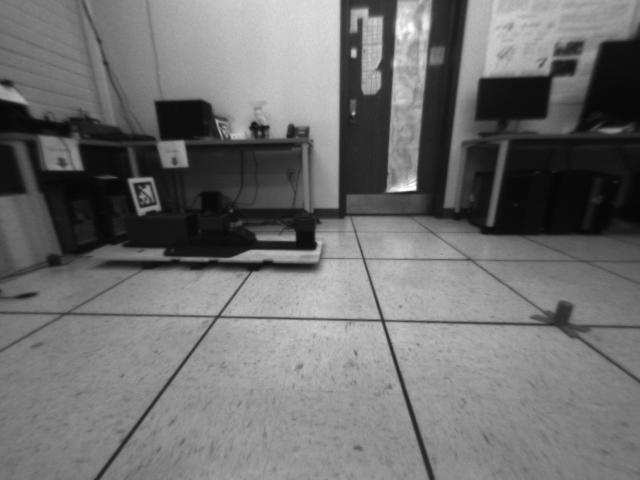X: (527, 299, 592, 339)
